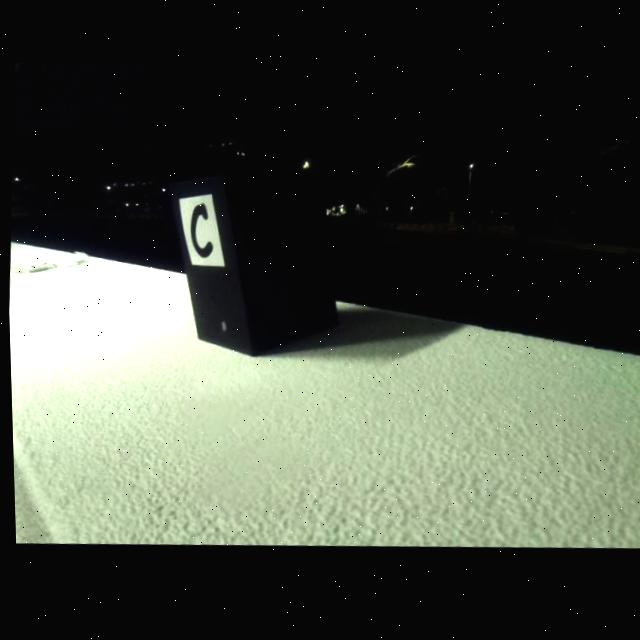C: (189, 206, 211, 261)
